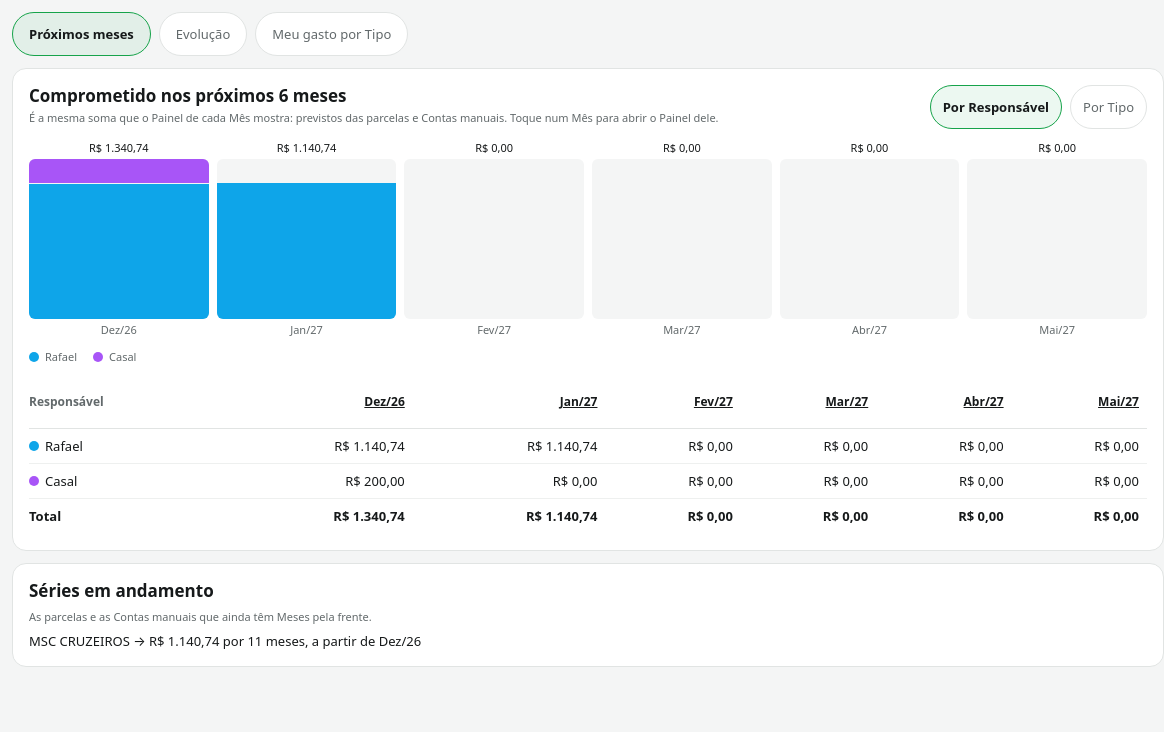
Test case: as abas › Meu gasto por Tipo funciona desde a 7.3: sem 'meu Bloco' pede para escolher um (sem 'Em breve')
Click the tab "Meu gasto por Tipo".
click(332, 34)  # box x1=255 y1=12 x2=408 y2=56
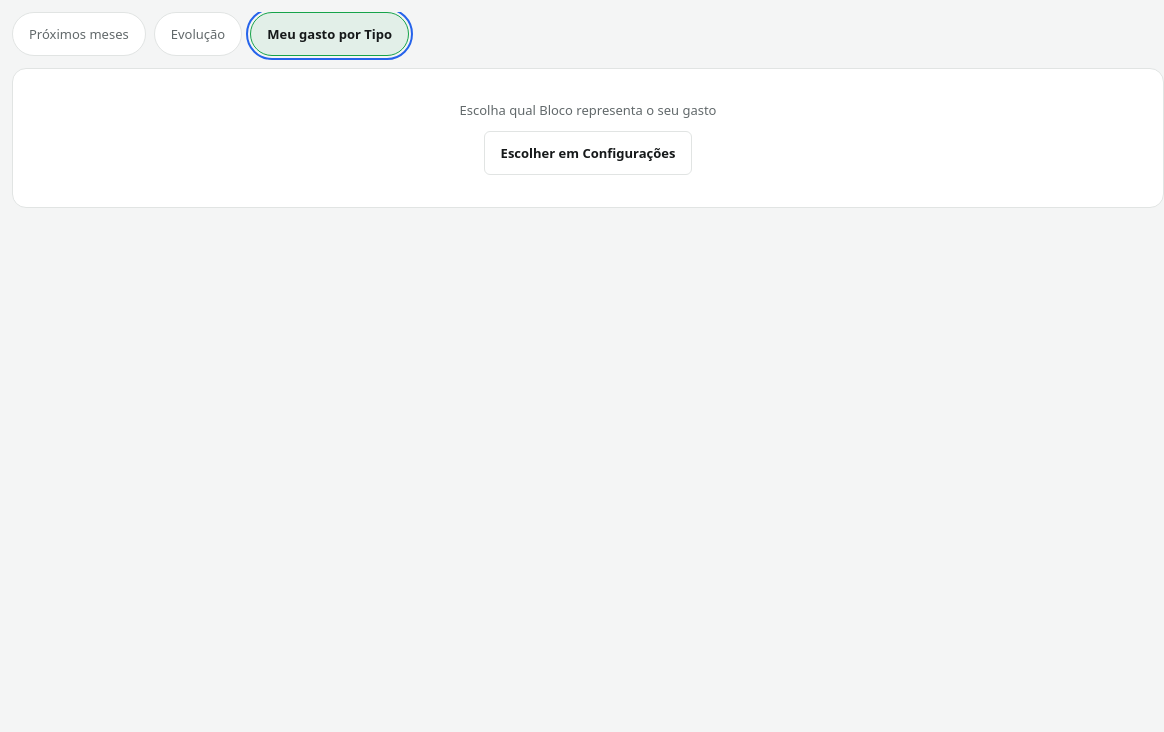
Result: the text "Escolha qual Bloco representa o seu gasto" is shown at x1=460 y1=101 x2=716 y2=119
